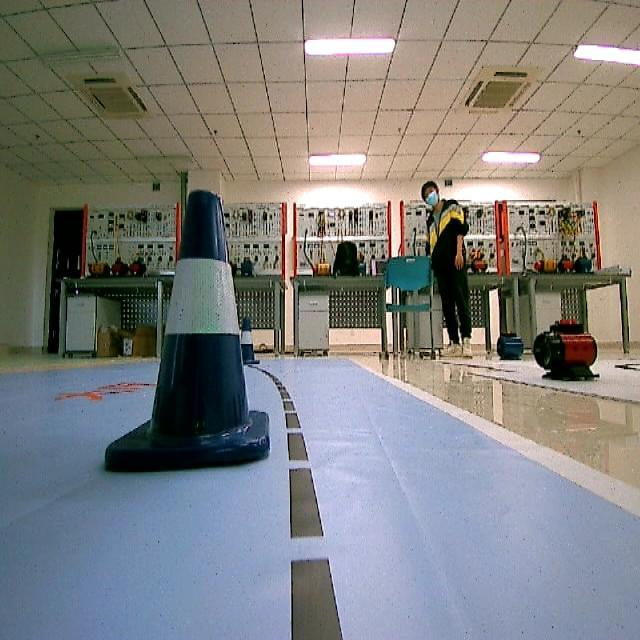obstacle: (100, 188, 279, 476)
